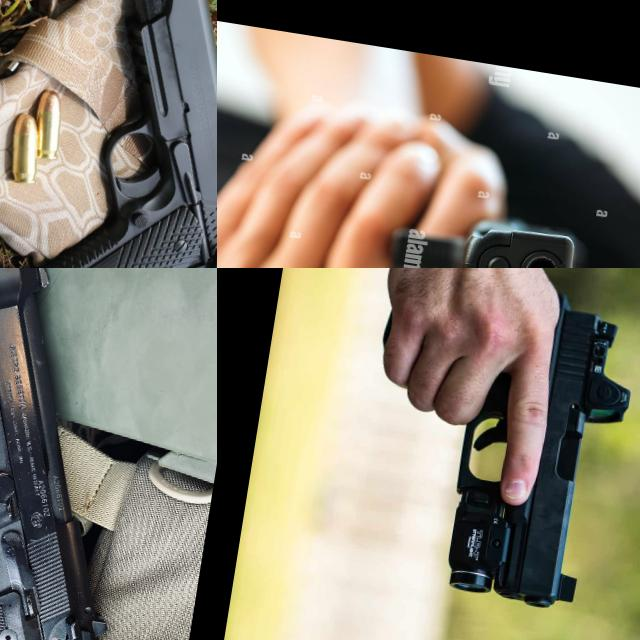handgun: (0, 268, 191, 640), (435, 279, 640, 620), (0, 0, 217, 268), (377, 199, 597, 268)
